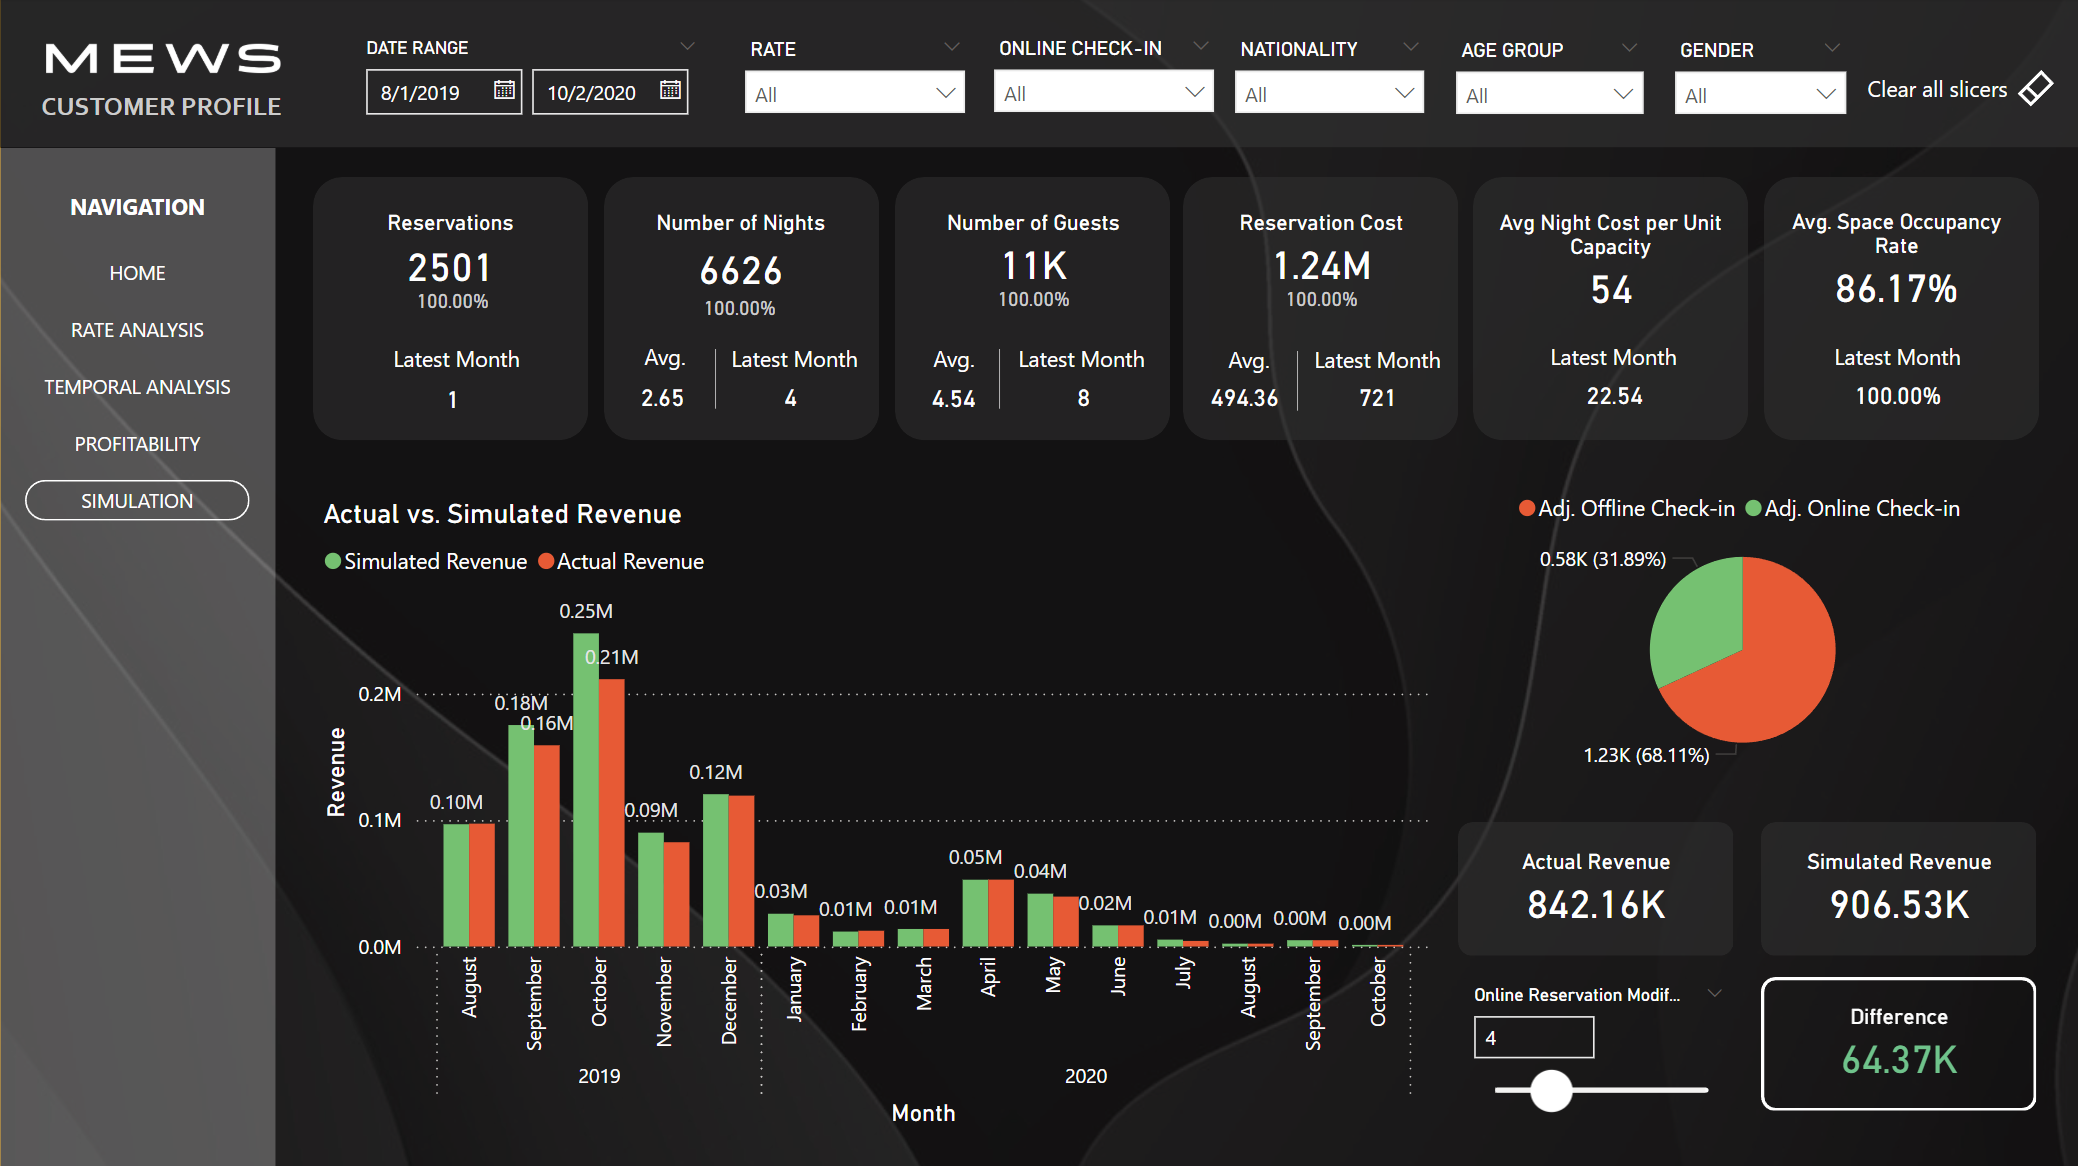

The dashboard page shown, as its layout file describes it:
{"tool":"powerbi","page":{"name":"SIMULATION","canvas":[1280,720],"ordinal":4},"visuals":[{"type":"group","id":"g1","title":"Background","box":[0,0,1280,720.9],"z":0},{"type":"shape","title":"Header Bar","box":[0,0,1280,91.7],"z":0,"group":"g2"},{"type":"shape","title":"Side Bar","box":[0,91.9,169.8,627.7],"z":0,"group":"g4"},{"type":"shape","title":"Box Reservations","box":[193.3,110,169.2,161.7],"z":0,"group":"g9"},{"type":"shape","title":"Box Num Nights","box":[371.7,110,169.2,161.7],"z":0,"group":"g10"},{"type":"shape","title":"Box Reservation Cost","box":[727.5,110,169.2,161.7],"z":0,"group":"g8"},{"type":"shape","title":"Box Avg. Night per Unit","box":[905.8,110,169.2,161.7],"z":0,"group":"g5"},{"type":"shape","title":"Box Avg. Occupancy","box":[1084.2,110,169.2,161.7],"z":0,"group":"g7"},{"type":"textbox","title":"Text Navitagor","box":[0,114.1,170,31.7],"z":0,"group":"g6"},{"type":"shape","title":"Box Reservation Cost","box":[896.6,506.1,169.4,82.5],"z":0,"group":"g12"},{"type":"shape","title":"Box Reservation Cost","box":[1082.7,506.1,169.4,82.5],"z":0,"group":"g13"},{"type":"shape","title":"Box Reservation Cost","box":[1082.7,601.4,169.4,82.5],"z":0,"group":"g14"},{"type":"shape","title":"Shader","box":[0,0,1280,720.9],"z":1000,"group":"g1"},{"type":"group","id":"g2","title":"Header","box":[0,0,1280,92.5],"z":1000},{"type":"textbox","title":"Customer Profile Text","box":[20.8,51.7,165.8,30.8],"z":1000,"group":"g2"},{"type":"card","title":"Avg. Space Occupancy Rate","fields":{"Values":["int_reservations_enriched.avg_occupancy_rate"]},"box":[1088.2,129.5,155.6,70.4],"z":1000,"group":"g7"},{"type":"card","title":"Reservations","fields":{"Values":["int_reservations_enriched.Reservations"]},"box":[192.5,130,170,58.3],"z":1000,"group":"g9"},{"type":"card","title":"Avg Night Cost per Unit Capacity","fields":{"Values":["int_reservations_enriched.AvgNightCostPerUnitCapacity"]},"box":[905.8,130,169.2,70.8],"z":1000,"group":"g5"},{"type":"pageNavigator","box":[15.8,155.8,138.3,167.2],"z":1000,"group":"g6"},{"type":"card","title":"Avg. Num Nights","fields":{"Values":["int_reservations_enriched.avg_number_of_nights"]},"box":[370,215.8,75.8,62.5],"z":1000,"group":"g10"},{"type":"card","title":"Avg. Cost","fields":{"Values":["int_reservations_enriched.avg_reservation_cost"]},"box":[727.5,215.8,75.8,62.5],"z":1000,"group":"g8"},{"type":"image","title":"Mews Logo","box":[24.2,14.2,154.2,45.8],"z":2000,"group":"g2"},{"type":"shape","title":"Box Num Guests","box":[550,110,169.2,161.7],"z":2000,"group":"g11"},{"type":"card","title":"Reservations %","fields":{"Values":["int_reservations_enriched.% Reservations"]},"box":[193.7,151.7,170,71.7],"z":2000,"group":"g9"},{"type":"textbox","title":"Text Avg Num Nights","box":[391.7,206.7,49.2,33.3],"z":2000,"group":"g10"},{"type":"textbox","title":"Text Avg. Cost","box":[750,208.3,46.7,33.3],"z":2000,"group":"g8"},{"type":"card","title":"LM Avg. Night per Unit","fields":{"Values":["int_reservations_enriched.latest_month_night_cost_per_unit_capacity"]},"box":[955,214.2,75.8,62.5],"z":2000,"group":"g5"},{"type":"card","title":"LM Avg. Space Occupancy","fields":{"Values":["int_reservations_enriched.latest_month_occupancy_rate"]},"box":[1128.4,214.2,75.8,62.5],"z":2000,"group":"g7"},{"type":"group","id":"g3","title":"Visuals","box":[19.9,292.9,1233.6,404.3],"z":2000},{"type":"slicer","title":"Gender Slicer","fields":{"Values":["int_reservations_enriched.gender"]},"box":[1019.8,20.2,124.5,71.8],"z":3000,"group":"g2"},{"type":"group","id":"g4","title":"Side Bar","box":[0,91.9,170,627.7],"z":3000},{"type":"textbox","title":"Text LM Avg. Night per Unit","box":[948.3,206.7,95.8,45],"z":3000,"group":"g5"},{"type":"textbox","title":"Text LM Avg. Space Occupancy","box":[1122.5,206.7,95.8,45],"z":3000,"group":"g7"},{"type":"shape","title":"Num Nights Separator","box":[421.7,215.8,37.5,36.7],"z":3000,"group":"g10"},{"type":"card","title":"Avg. Num Guests","fields":{"Values":["int_reservations_enriched.avg_number_of_guests"]},"box":[548.3,216,75.8,62.5],"z":3000,"group":"g11"},{"type":"card","title":"LM Reservations","fields":{"Values":["int_reservations_enriched.latest_month_number_of_reservations"]},"box":[240.8,216.7,75.8,62.5],"z":3000,"group":"g9"},{"type":"shape","title":"Cost Separator","box":[779.2,216.7,37.5,36.7],"z":3000,"group":"g8"},{"type":"slicer","title":"Nationality Slicer","fields":{"Values":["int_reservations_enriched.nationality_code"]},"box":[749.7,19.9,136,72.6],"z":4000,"group":"g2"},{"type":"group","id":"g5","title":"KPI Avg. Night Cost per Unit","box":[905.8,110,169.2,166.7],"z":4000},{"type":"group","id":"g6","title":"Navigator","box":[0,114.1,170,208.9],"z":4000,"group":"g4"},{"type":"textbox","title":"Text LM Reservations","box":[237.5,207.5,95.8,45],"z":4000,"group":"g9"},{"type":"textbox","title":"Text Avg Num Guests","box":[568.3,207.5,46.7,33.3],"z":4000,"group":"g11"},{"type":"card","title":"LM Num Nights","fields":{"Values":["int_reservations_enriched.latest_month_number_of_nights"]},"box":[448.3,215.8,75.8,62.5],"z":4000,"group":"g10"},{"type":"card","title":"LM Cost","fields":{"Values":["int_reservations_enriched.latest_month_reservation_costs"]},"box":[809.2,215.8,75.8,62.5],"z":4000,"group":"g8"},{"type":"slicer","title":"Age Slicer","fields":{"Values":["int_reservations_enriched.age_group"]},"box":[885.2,20.2,134.5,71.8],"z":5000,"group":"g2"},{"type":"group","id":"g7","title":"KPI Avg. Space Occupancy","box":[1084.2,110,169.2,166.7],"z":5000},{"type":"card","title":"Reservation Cost","fields":{"Values":["int_reservations_enriched.Total Reservation Cost"]},"box":[727.5,130,170,56.7],"z":5000,"group":"g8"},{"type":"card","title":"% Number of Nights","fields":{"Values":["int_reservations_enriched.% Nights"]},"box":[370,177.9,170,28.3],"z":5000,"group":"g10"},{"type":"shape","title":"Num Guests Separator","box":[595.8,215.8,37.5,36.7],"z":5000,"group":"g11"},{"type":"card","title":"Actual Revenue","fields":{"Values":["Sum(mart_online_reservations_aggregation.total_night_cost)"]},"box":[896.5,522.5,170,56.7],"z":5000,"group":"g12"},{"type":"card","title":"Simulated Revenue","fields":{"Values":["mart_online_reservations_aggregation.total_projected_revenue"]},"box":[1082.6,522.5,170,56.7],"z":5000,"group":"g13"},{"type":"card","title":"Difference","fields":{"Values":["mart_online_reservations_aggregation.revenue_difference"]},"box":[1082.6,617.8,170,56.7],"z":5000,"group":"g14"},{"type":"card","title":"Number of Guests %","fields":{"Values":["int_reservations_enriched.% Reservation Cost"]},"box":[550,172.5,170,27.5],"z":5250,"group":"g11"},{"type":"card","title":"Number of Guests","fields":{"Values":["int_reservations_enriched.Number of Guests"]},"box":[550,130,170,56.7],"z":5500,"group":"g11"},{"type":"slicer","title":"Rate Slicer","fields":{"Values":["int_reservations_enriched.rate_name"]},"box":[448.6,19.9,155.1,72.6],"z":6000,"group":"g2"},{"type":"group","id":"g8","title":"KPI Reservation Cost","box":[727.5,110,171.7,168.3],"z":6000},{"type":"card","title":"Number of Nights","fields":{"Values":["int_reservations_enriched.Total Nights"]},"box":[371.4,130,169.2,62.5],"z":6000,"group":"g10"},{"type":"card","title":"Night Cost %","fields":{"Values":["int_reservations_enriched.% Reservation Cost"]},"box":[727.5,172.5,170,27.5],"z":6000,"group":"g8"},{"type":"card","title":"LM Num Guests","fields":{"Values":["int_reservations_enriched.most_recent_month_guest_count"]},"box":[628.5,215.8,75.8,62.5],"z":6000,"group":"g11"},{"type":"actionButton","title":"Clear Slicers","box":[1144.2,30,123.3,50],"z":7000,"group":"g2"},{"type":"group","id":"g9","title":"KPÎ Reservations","box":[192.5,110,171.2,169.2],"z":7000},{"type":"textbox","title":"Text LM Num Nights","box":[445,207.5,95.8,45],"z":7000,"group":"g10"},{"type":"textbox","title":"Text LM Num Guests","box":[621,207.5,95.8,45],"z":7000,"group":"g11"},{"type":"textbox","title":"Text LM Cost","box":[803.3,208.3,95.8,45],"z":7000,"group":"g8"},{"type":"slicer","title":"Rate Slicer","fields":{"Values":["int_reservations_enriched.OnlineCheckinText"]},"box":[601.4,19.1,155.1,72.6],"z":8000,"group":"g2"},{"type":"group","id":"g10","title":"KPI Num Nights","box":[370,110,170.8,168.3],"z":8000},{"type":"slicer","title":"Date Slicer","fields":{"Values":["int_reservations_enriched.start_datetime_utc"]},"box":[212.4,19.9,227.8,65.2],"z":9000,"group":"g2"},{"type":"group","id":"g11","title":"KPI Num Guests","box":[548.3,110,171.7,168.5],"z":9000},{"type":"clusteredColumnChart","title":"Actual vs. Simulated Revenue","fields":{"Category":["mart_online_reservations_aggregation.month_date.Variation.Date Hierarchy.Year","mart_online_reservations_aggregation.month_date.Variation.Date Hierarchy.Month"],"Y":["mart_online_reservations_aggregation.projected_revenue","Sum(mart_online_reservations_aggregation.total_night_cost)"]},"box":[194,306.4,689.9,391.5],"z":10000},{"type":"group","id":"g12","title":"KPI Reservation Cost","box":[896.5,506.1,170.2,81.7],"z":11000},{"type":"group","id":"g13","title":"KPI Reservation Cost","box":[1082.6,506.1,170.2,81.7],"z":11001},{"type":"slicer","fields":{"Values":["online_reservation_multiplier.online_reservation_multiplier"]},"box":[893,601.4,178.2,85.1],"z":11002},{"type":"group","id":"g14","title":"KPI Reservation Cost","box":[1082.6,601.4,169.1,82.8],"z":11003},{"type":"pieChart","fields":{"Y":["mart_online_reservations_aggregation.total_adj_offline_reservations","mart_online_reservations_aggregation.total_adj_online_reservations"]},"box":[898.7,292.8,345,186.1],"z":11004}]}

Visuals, with their boxes in screenshot pixels (x1, y1, x2, y2), scaled from the page's 1280x720 canvas onto the 2078x1166 screenshot:
"Background" group: pyautogui.locateOnScreen(0, 0, 2077, 1165)
"Header Bar" shape: pyautogui.locateOnScreen(0, 0, 2077, 149)
"Side Bar" shape: pyautogui.locateOnScreen(0, 149, 276, 1165)
"Box Reservations" shape: pyautogui.locateOnScreen(314, 178, 588, 440)
"Box Num Nights" shape: pyautogui.locateOnScreen(603, 178, 878, 440)
"Box Reservation Cost" shape: pyautogui.locateOnScreen(1181, 178, 1456, 440)
"Box Avg. Night per Unit" shape: pyautogui.locateOnScreen(1471, 178, 1745, 440)
"Box Avg. Occupancy" shape: pyautogui.locateOnScreen(1760, 178, 2035, 440)
"Text Navitagor" textbox: pyautogui.locateOnScreen(0, 185, 276, 236)
"Box Reservation Cost" shape: pyautogui.locateOnScreen(1456, 820, 1731, 953)
"Box Reservation Cost" shape: pyautogui.locateOnScreen(1758, 820, 2033, 953)
"Box Reservation Cost" shape: pyautogui.locateOnScreen(1758, 974, 2033, 1108)
"Shader" shape: pyautogui.locateOnScreen(0, 0, 2077, 1165)
"Header" group: pyautogui.locateOnScreen(0, 0, 2077, 150)
"Customer Profile Text" textbox: pyautogui.locateOnScreen(34, 84, 303, 134)
"Avg. Space Occupancy Rate" card: pyautogui.locateOnScreen(1767, 210, 2019, 324)
"Reservations" card: pyautogui.locateOnScreen(313, 211, 588, 305)
"Avg Night Cost per Unit Capacity" card: pyautogui.locateOnScreen(1471, 211, 1745, 325)
pageNavigator: pyautogui.locateOnScreen(26, 252, 250, 523)
"Avg. Num Nights" card: pyautogui.locateOnScreen(601, 349, 724, 451)
"Avg. Cost" card: pyautogui.locateOnScreen(1181, 349, 1304, 451)
"Mews Logo" image: pyautogui.locateOnScreen(39, 23, 290, 97)
"Box Num Guests" shape: pyautogui.locateOnScreen(893, 178, 1168, 440)
"Reservations %" card: pyautogui.locateOnScreen(314, 246, 590, 362)
"Text Avg Num Nights" textbox: pyautogui.locateOnScreen(636, 335, 716, 389)
"Text Avg. Cost" textbox: pyautogui.locateOnScreen(1218, 337, 1293, 391)
"LM Avg. Night per Unit" card: pyautogui.locateOnScreen(1550, 347, 1673, 448)
"LM Avg. Space Occupancy" card: pyautogui.locateOnScreen(1832, 347, 1955, 448)
"Visuals" group: pyautogui.locateOnScreen(32, 474, 2035, 1129)
"Gender Slicer" slicer: pyautogui.locateOnScreen(1656, 33, 1858, 149)
"Side Bar" group: pyautogui.locateOnScreen(0, 149, 276, 1165)
"Text LM Avg. Night per Unit" textbox: pyautogui.locateOnScreen(1540, 335, 1695, 408)
"Text LM Avg. Space Occupancy" textbox: pyautogui.locateOnScreen(1822, 335, 1978, 408)
"Num Nights Separator" shape: pyautogui.locateOnScreen(685, 349, 745, 409)
"Avg. Num Guests" card: pyautogui.locateOnScreen(890, 350, 1013, 451)
"LM Reservations" card: pyautogui.locateOnScreen(391, 351, 514, 452)
"Cost Separator" shape: pyautogui.locateOnScreen(1265, 351, 1326, 410)
"Nationality Slicer" slicer: pyautogui.locateOnScreen(1217, 32, 1438, 150)
"KPI Avg. Night Cost per Unit" group: pyautogui.locateOnScreen(1471, 178, 1745, 448)
"Navigator" group: pyautogui.locateOnScreen(0, 185, 276, 523)
"Text LM Reservations" textbox: pyautogui.locateOnScreen(386, 336, 541, 409)
"Text Avg Num Guests" textbox: pyautogui.locateOnScreen(923, 336, 998, 390)
"LM Num Nights" card: pyautogui.locateOnScreen(728, 349, 851, 451)
"LM Cost" card: pyautogui.locateOnScreen(1314, 349, 1437, 451)
"Age Slicer" slicer: pyautogui.locateOnScreen(1437, 33, 1655, 149)
"KPI Avg. Space Occupancy" group: pyautogui.locateOnScreen(1760, 178, 2035, 448)
"Reservation Cost" card: pyautogui.locateOnScreen(1181, 211, 1457, 302)
"% Number of Nights" card: pyautogui.locateOnScreen(601, 288, 877, 334)
"Num Guests Separator" shape: pyautogui.locateOnScreen(967, 349, 1028, 409)
"Actual Revenue" card: pyautogui.locateOnScreen(1455, 846, 1731, 938)
"Simulated Revenue" card: pyautogui.locateOnScreen(1758, 846, 2034, 938)
"Difference" card: pyautogui.locateOnScreen(1758, 1000, 2034, 1092)
"Number of Guests %" card: pyautogui.locateOnScreen(893, 279, 1169, 324)
"Number of Guests" card: pyautogui.locateOnScreen(893, 211, 1169, 302)
"Rate Slicer" slicer: pyautogui.locateOnScreen(728, 32, 980, 150)
"KPI Reservation Cost" group: pyautogui.locateOnScreen(1181, 178, 1460, 451)
"Number of Nights" card: pyautogui.locateOnScreen(603, 211, 878, 312)
"Night Cost %" card: pyautogui.locateOnScreen(1181, 279, 1457, 324)
"LM Num Guests" card: pyautogui.locateOnScreen(1020, 349, 1143, 451)
"Clear Slicers" actionButton: pyautogui.locateOnScreen(1858, 49, 2058, 130)
"KPÎ Reservations" group: pyautogui.locateOnScreen(313, 178, 590, 452)
"Text LM Num Nights" textbox: pyautogui.locateOnScreen(722, 336, 878, 409)
"Text LM Num Guests" textbox: pyautogui.locateOnScreen(1008, 336, 1164, 409)
"Text LM Cost" textbox: pyautogui.locateOnScreen(1304, 337, 1460, 410)
"Rate Slicer" slicer: pyautogui.locateOnScreen(976, 31, 1228, 149)
"KPI Num Nights" group: pyautogui.locateOnScreen(601, 178, 878, 451)
"Date Slicer" slicer: pyautogui.locateOnScreen(345, 32, 715, 138)
"KPI Num Guests" group: pyautogui.locateOnScreen(890, 178, 1169, 451)
"Actual vs. Simulated Revenue" clusteredColumnChart: pyautogui.locateOnScreen(315, 496, 1435, 1130)
"KPI Reservation Cost" group: pyautogui.locateOnScreen(1455, 820, 1732, 952)
"KPI Reservation Cost" group: pyautogui.locateOnScreen(1758, 820, 2034, 952)
slicer - online_reservation_multiplier.online_reservation_multiplier: pyautogui.locateOnScreen(1450, 974, 1739, 1112)
"KPI Reservation Cost" group: pyautogui.locateOnScreen(1758, 974, 2032, 1108)
pieChart - mart_online_reservations_aggregation.total_adj_offline_reservations x mart_online_reservations_aggregation.total_adj_online_reservations: pyautogui.locateOnScreen(1459, 474, 2019, 776)
